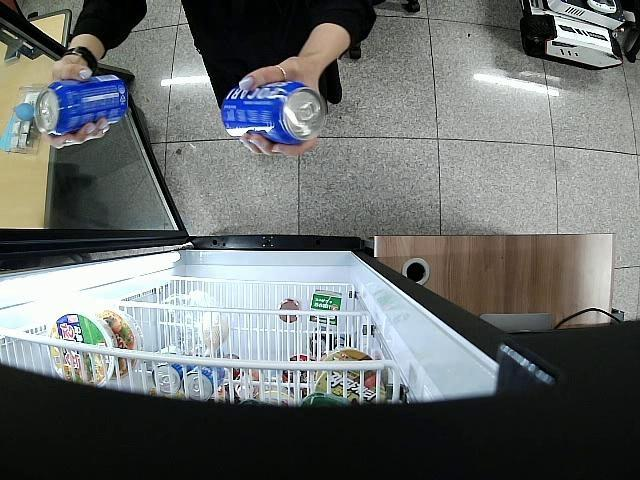13_pocariSweat: (222, 80, 327, 145), (35, 76, 128, 134)
